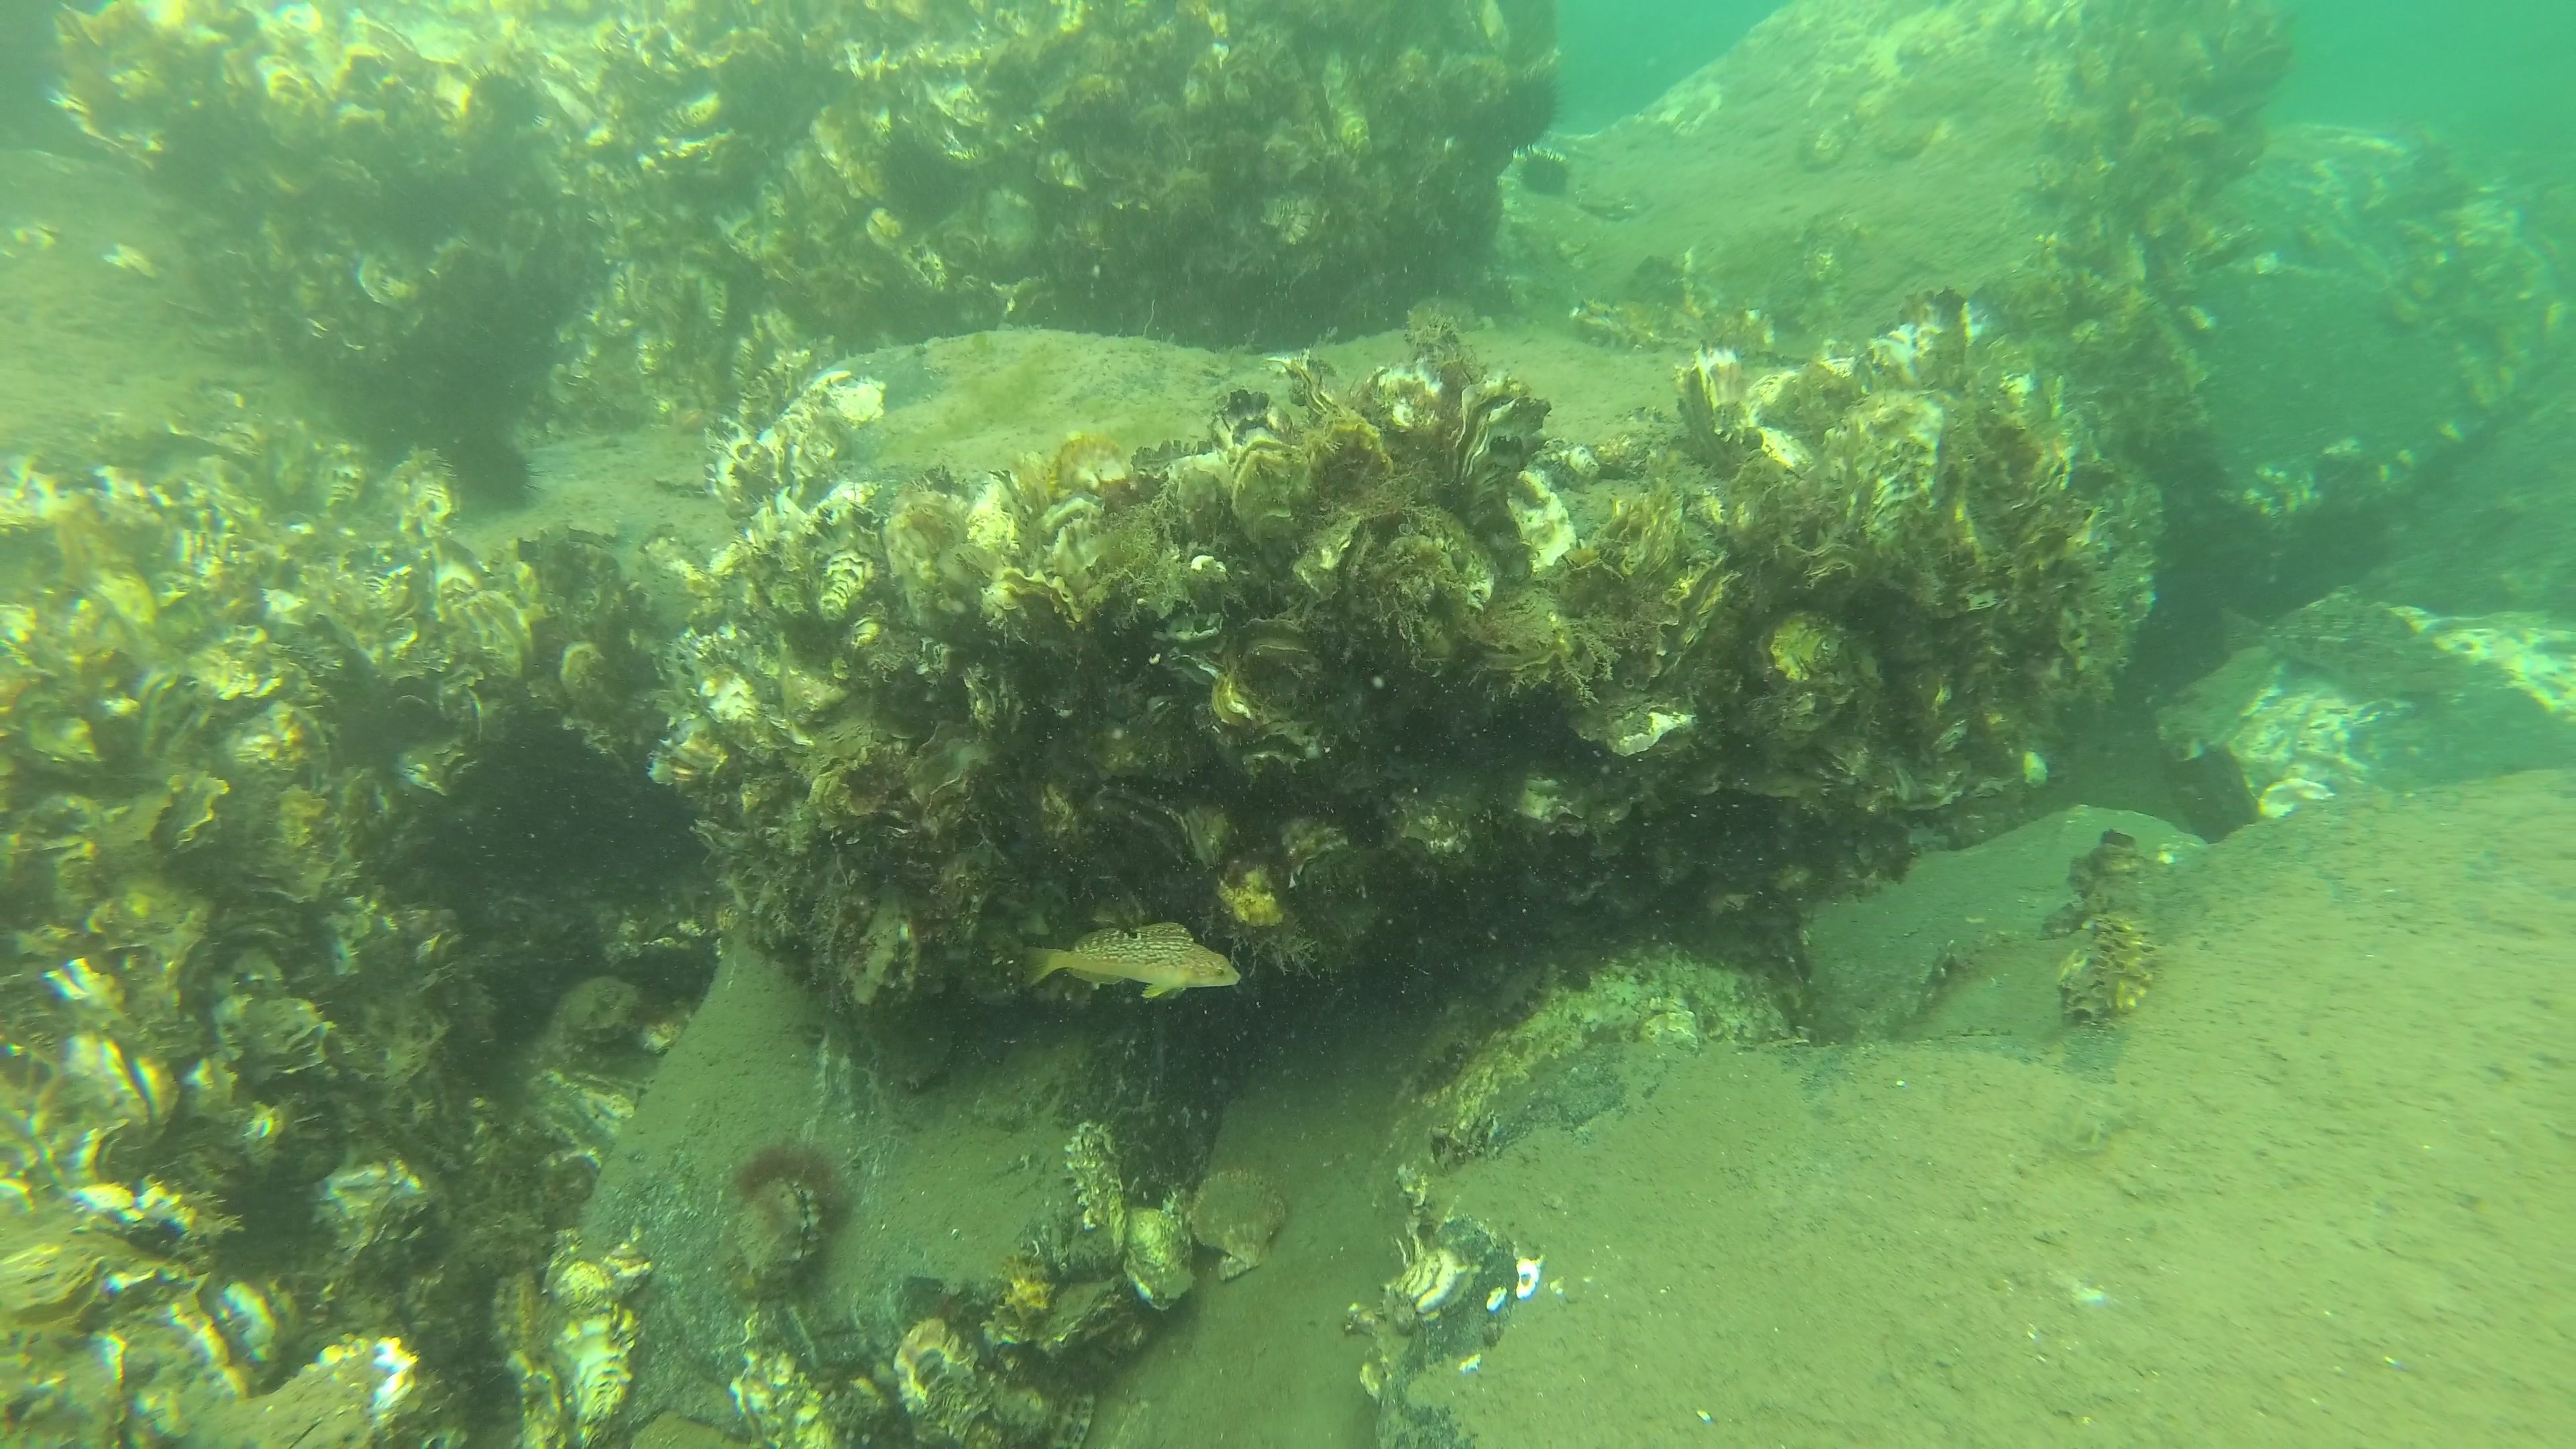echinus: (870, 129, 961, 228), (439, 430, 538, 513), (471, 62, 540, 126), (1518, 142, 1569, 198)
scallop: (1185, 1175, 1292, 1279)
